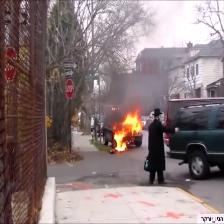fire: (103, 105, 157, 153)
smoke: (84, 31, 191, 103)
